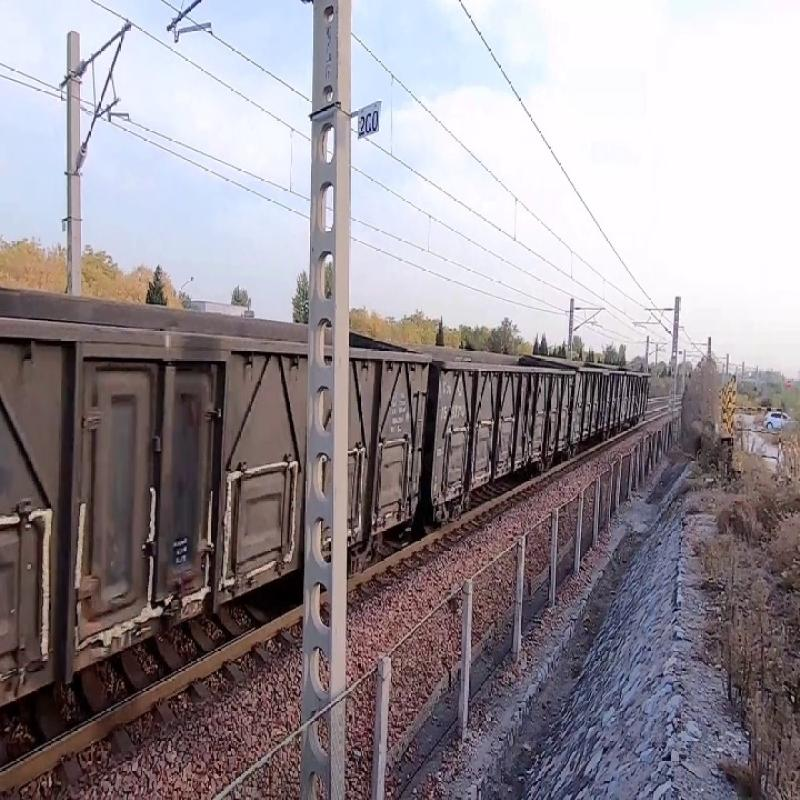train: (427, 365, 573, 499)
